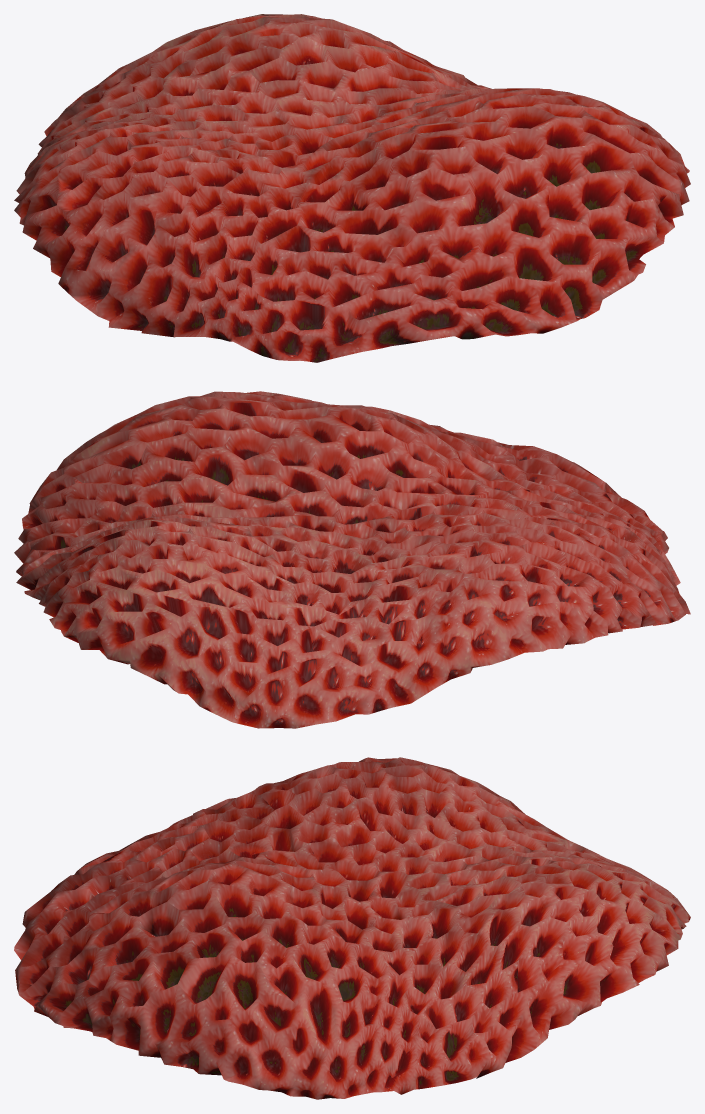
Rendered from coral_2_2_中模.fbx.
3 renders of one model, top to bottom at view 1: azimuth 30°, elevation 25°; view 2: azimuth 150°, elevation 25°; view 3: azimuth 270°, elevation 25°, orthographic. The views are drawn at different scales.
Visible parts, largest first — view 1: Coral_Medium; view 2: Coral_Medium; view 3: Coral_Medium.
Part boxes in pixels (<box>): Coral_Medium: <box>14,14,690,362</box>; Coral_Medium: <box>14,391,690,728</box>; Coral_Medium: <box>14,757,690,1099</box>.
Bounding box in the file's own units: 813 × 155 × 798.
1 material, 1 textured.
